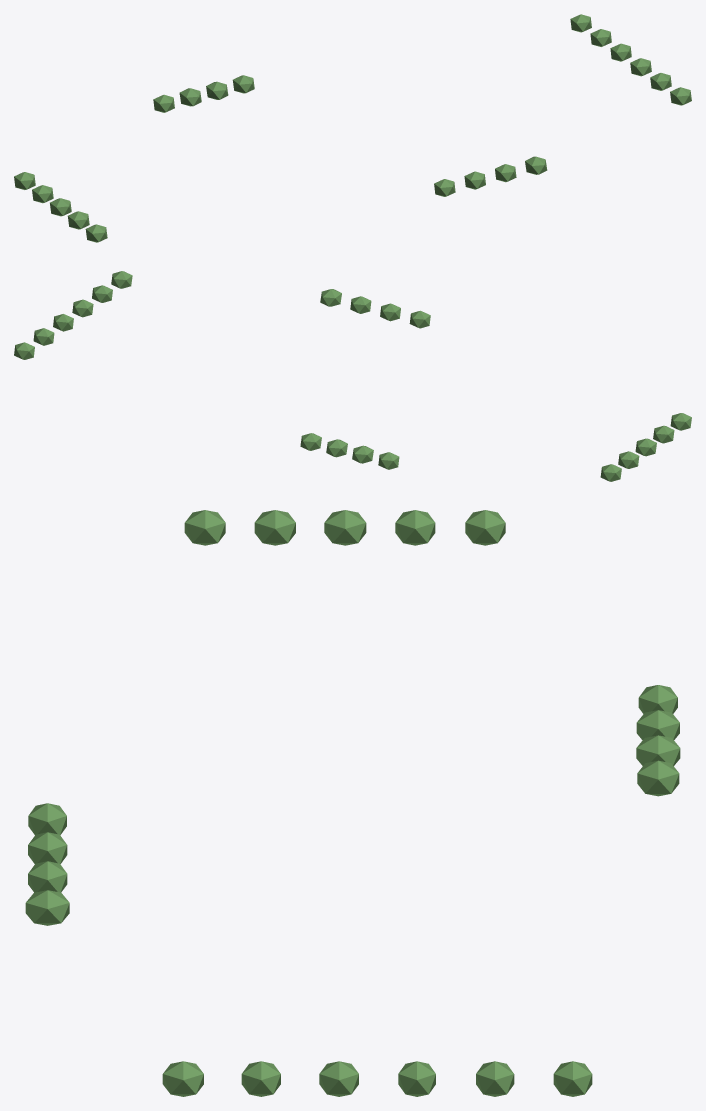
Rendered from yard_planting.glb.
3 renders of one model, top to bottom at view 1: azimuth 30°, elevation 25°; view 2: azimuth 150°, elevation 25°; view 3: azimuth 270°, elevation 25°, orthographic. The views are drawn at different scales.
Parts seen in each view (by area): view 1: no part large enough to name; view 2: no part large enough to name; view 3: shrub.103, shrub.303, shrub.202, shrub.201, shrub.400, shrub.200, shrub.204, shrub.203, shrub.402, shrub.401, shrub.405, shrub.404 (+7 smaller).
Part boxes in pixels (left/top/right/bottom): shrub.103: left=25, top=890, right=69, bottom=925; shrub.303: left=637, top=760, right=679, bottom=796; shrub.202: left=324, top=510, right=366, bottom=545; shrub.201: left=254, top=510, right=295, bottom=545; shrub.400: left=162, top=1061, right=203, bottom=1096; shrub.200: left=184, top=510, right=225, bottom=545; shrub.204: left=465, top=510, right=505, bottom=545; shrub.203: left=395, top=510, right=435, bottom=545; shrub.402: left=319, top=1061, right=358, bottom=1096; shrub.401: left=241, top=1061, right=280, bottom=1096; shrub.405: left=553, top=1061, right=592, bottom=1096; shrub.404: left=476, top=1061, right=514, bottom=1096.
Size of the model in its own units: 30.78 by 0.9 by 14.96.
